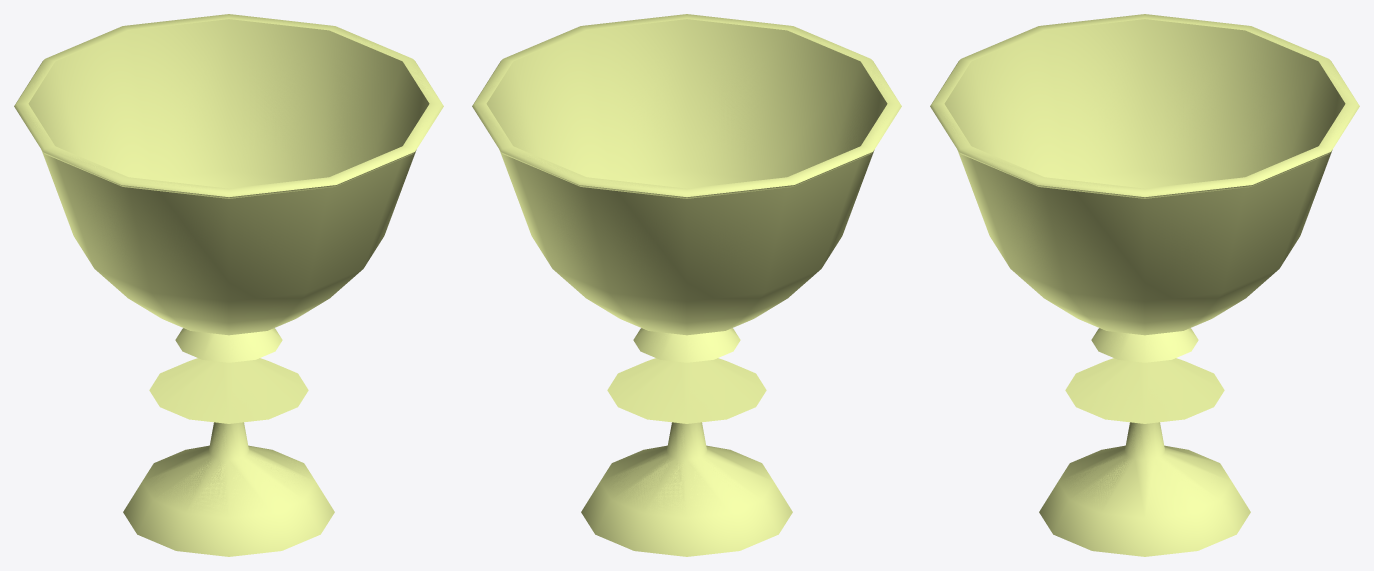
The picture shows the model from 3 angles, left to right: view 1: azimuth 30°, elevation 25°; view 2: azimuth 150°, elevation 25°; view 3: azimuth 270°, elevation 25°; orthographic projection.
Visible parts, largest first — view 1: mqo_mesh; view 2: mqo_mesh; view 3: mqo_mesh.
Boxes of the visible parts, bbox=[...] form: mqo_mesh: bbox=[14, 14, 443, 556]; mqo_mesh: bbox=[472, 14, 901, 556]; mqo_mesh: bbox=[930, 14, 1359, 556].
Bounding box in the file's own units: 64.01 × 67.08 × 64.01.
